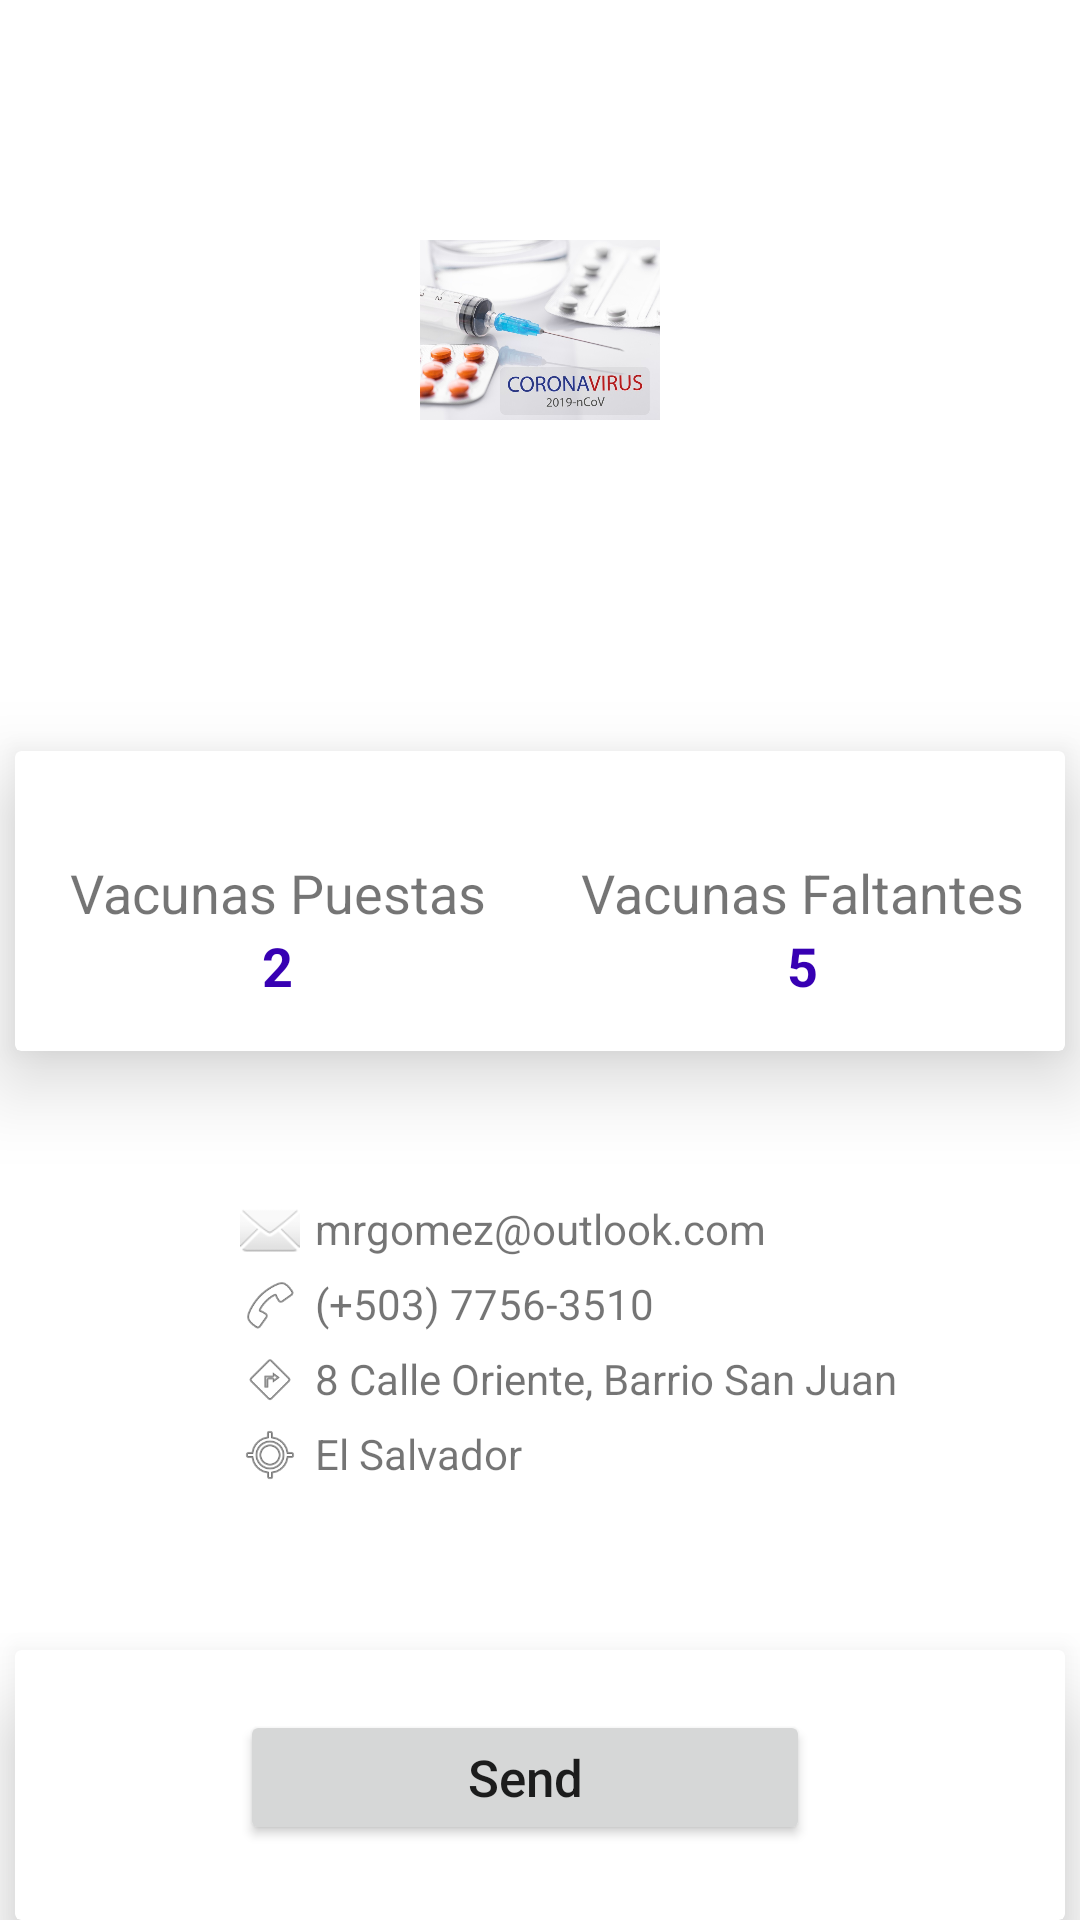

Icons on this 1080w x 1920h Android screen, each with the point to tap as point (x, y):
directions: point (270, 1379)
email: point (270, 1231)
mylocation: point (270, 1455)
